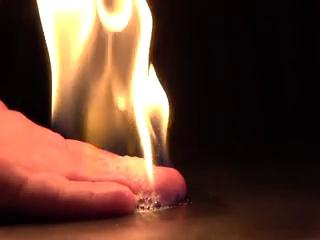Fire: (31, 1, 166, 183)
